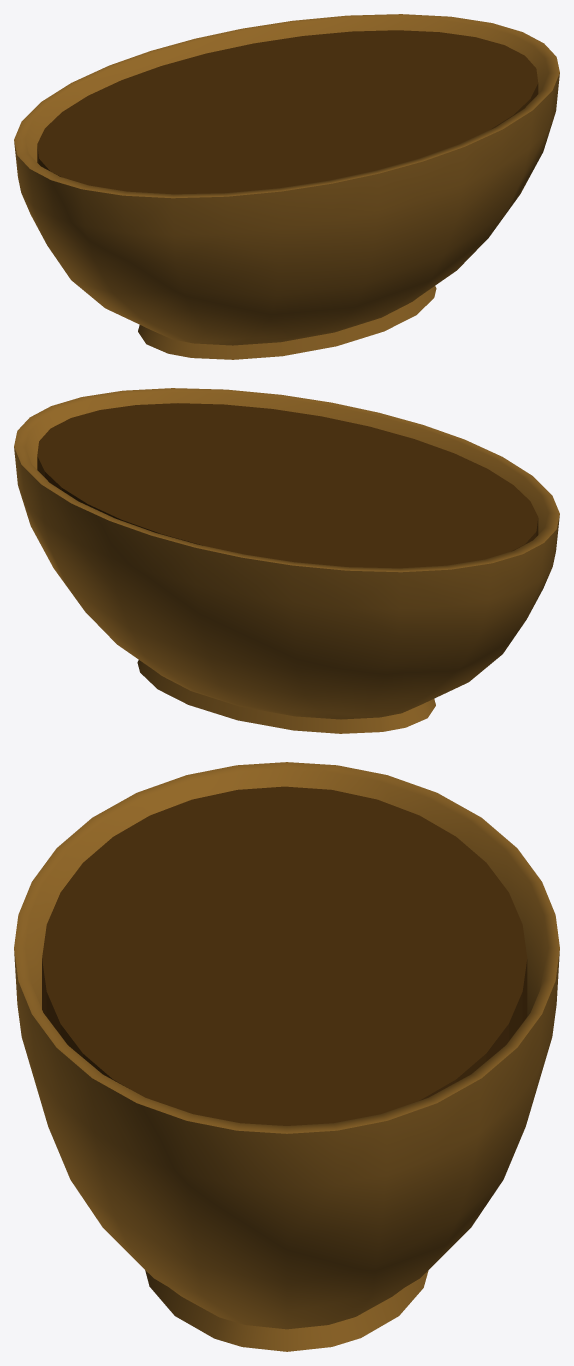
The model's file is 1_OvalPot_dirt_filled.fbx.
The picture shows the model from 3 angles, top to bottom: view 1: azimuth 30°, elevation 25°; view 2: azimuth 150°, elevation 25°; view 3: azimuth 270°, elevation 25°; orthographic projection. The views are drawn at different scales.
Parts seen in each view (by area): view 1: EmptyPotPrefab, Cylinder; view 2: EmptyPotPrefab, Cylinder; view 3: Cylinder, EmptyPotPrefab.
Boxes of the visible parts, left/top/right/bottom form: EmptyPotPrefab: left=14, top=14, right=559, bottom=359; Cylinder: left=37, top=30, right=538, bottom=194; EmptyPotPrefab: left=14, top=388, right=559, bottom=733; Cylinder: left=37, top=403, right=538, bottom=568; Cylinder: left=42, top=786, right=527, bottom=1125; EmptyPotPrefab: left=14, top=762, right=559, bottom=1351.
Size of the model in its own units: 46.83 by 17.73 by 29.06.
